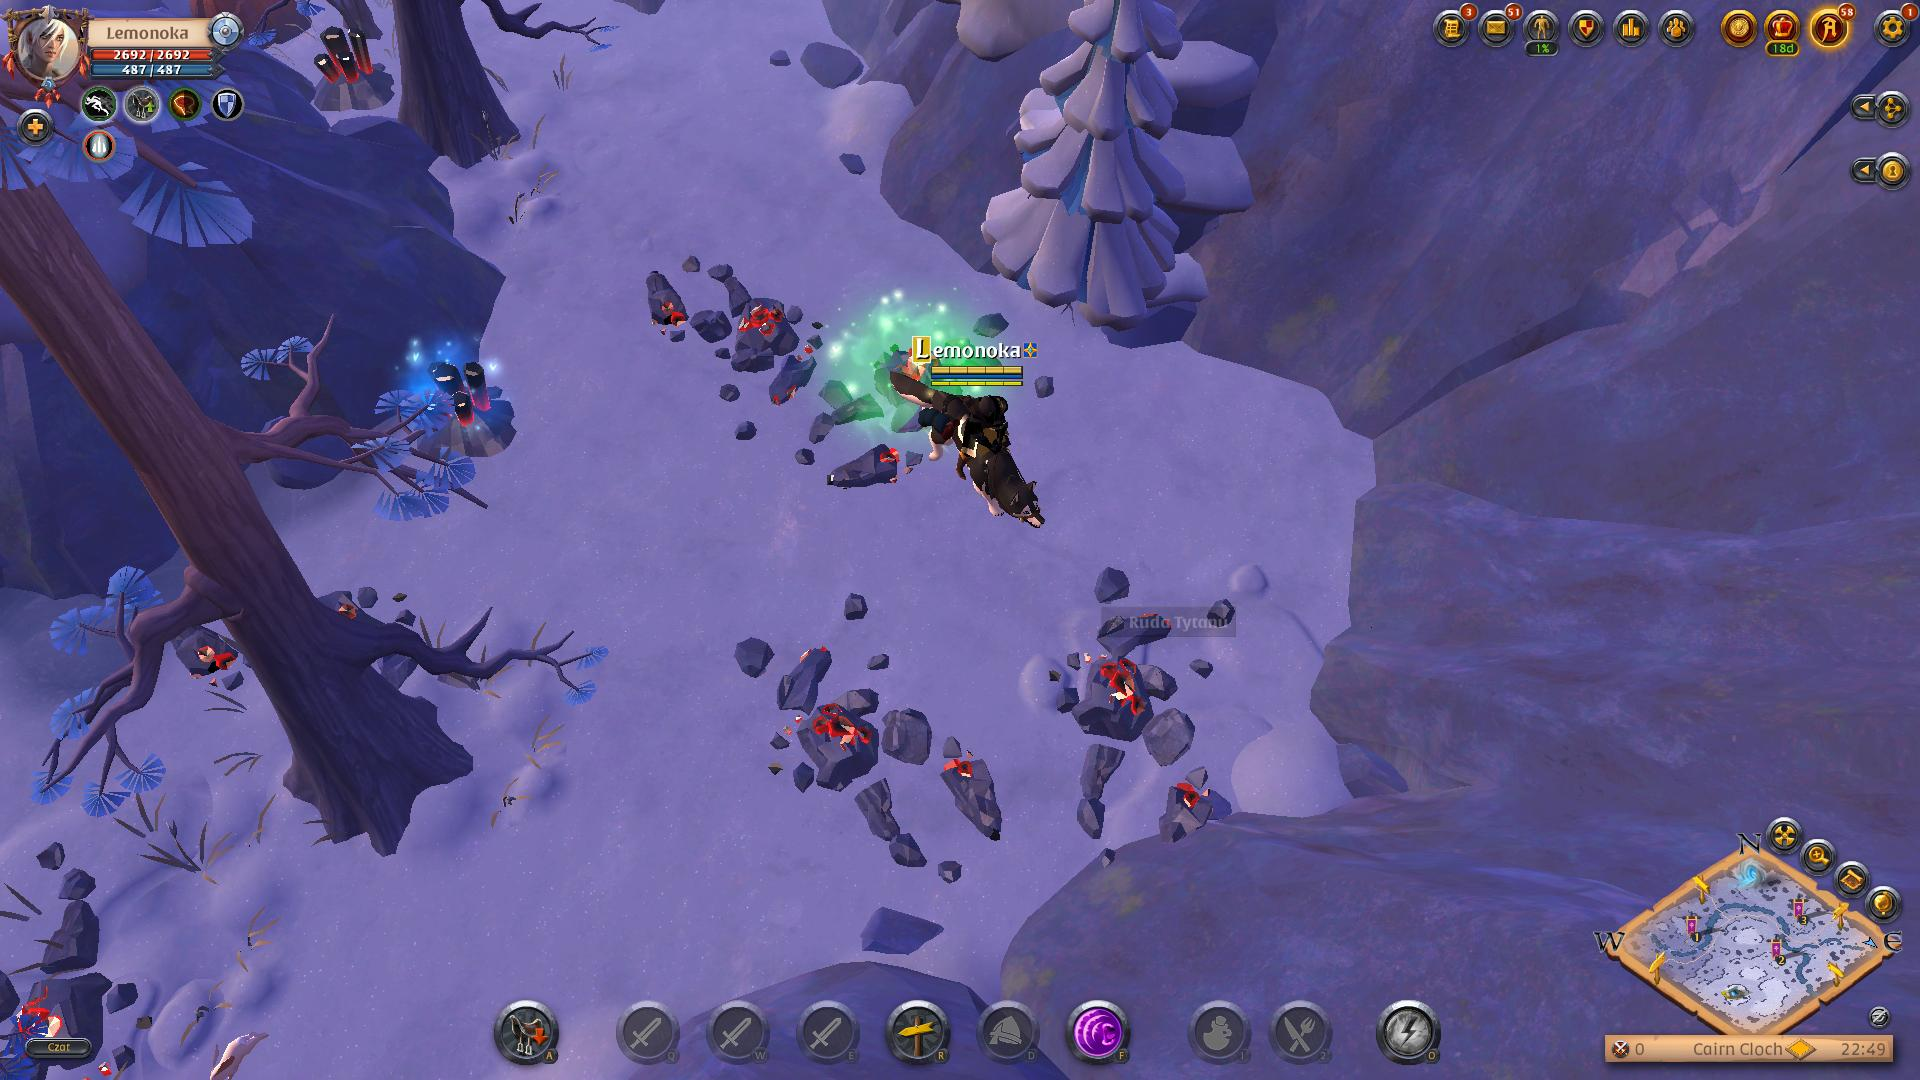ore tier 5: (413, 351, 529, 481), (303, 25, 397, 120)
